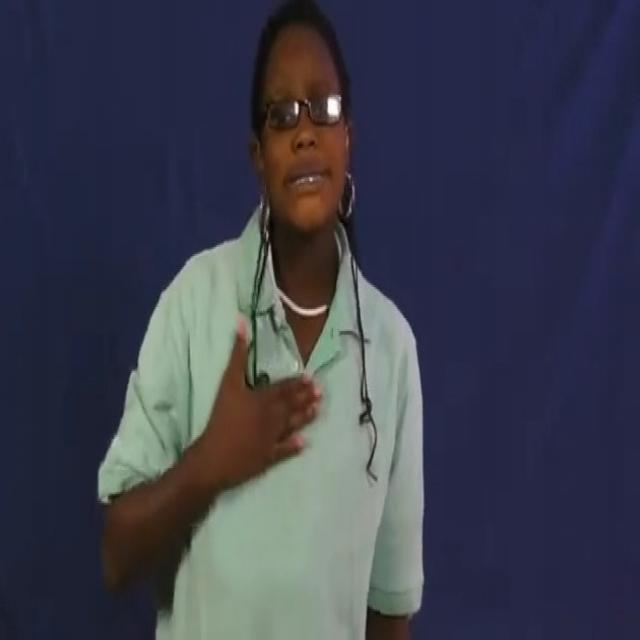please: (202, 315, 328, 504)
